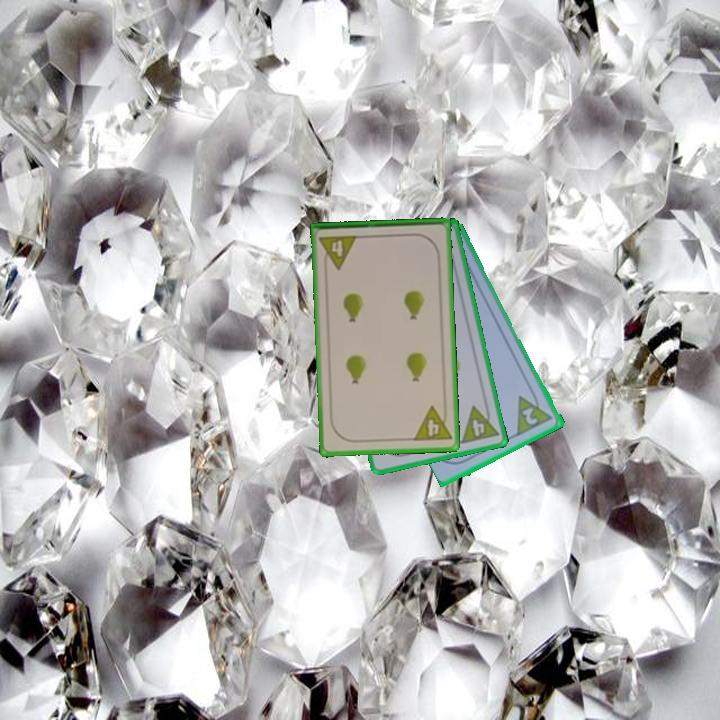2p: (513, 387, 556, 438)
4p: (457, 400, 501, 447), (410, 402, 454, 444), (316, 232, 360, 272)
